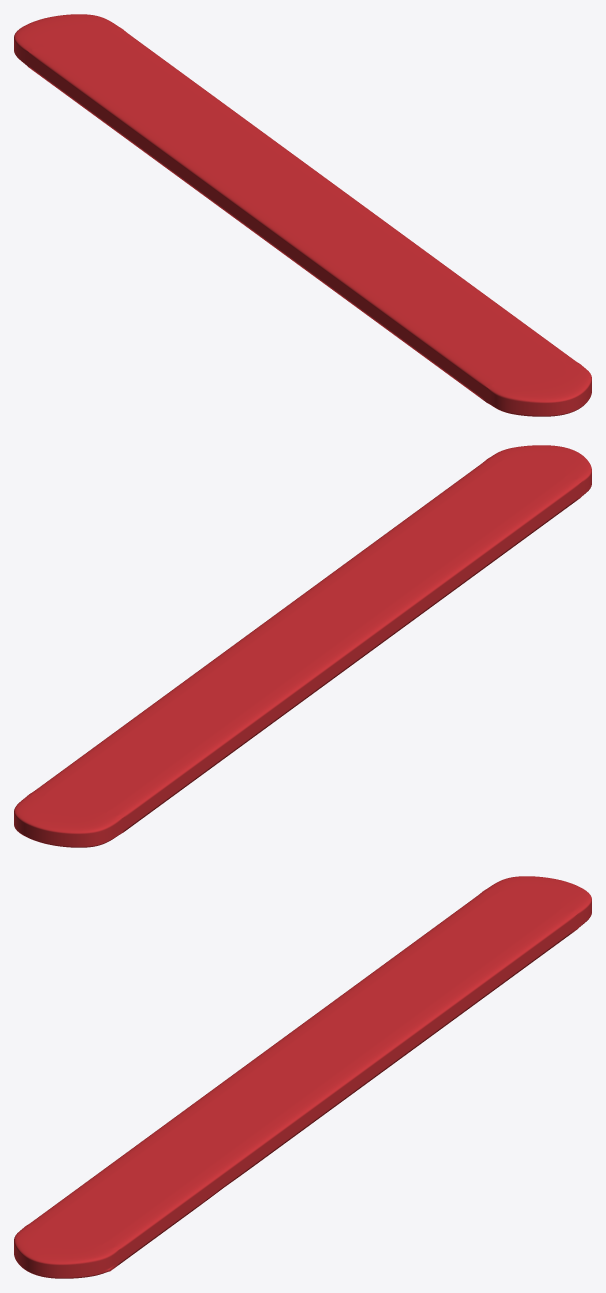
Rendered from mayamayaDİl2.fbx.
3 views of the same model, one above another, from view 1: azimuth 30°, elevation 25°; view 2: azimuth 150°, elevation 25°; view 3: azimuth 330°, elevation 25° (orthographic).
Visible parts, largest first — view 1: pCube1; view 2: pCube1; view 3: pCube1.
Part boxes in pixels (left/top/right/bottom): pCube1: left=14, top=14, right=591, bottom=416; pCube1: left=14, top=445, right=591, bottom=847; pCube1: left=14, top=876, right=591, bottom=1278.
Size of the model in its own units: 1.46 by 0.2869 by 13.99.
